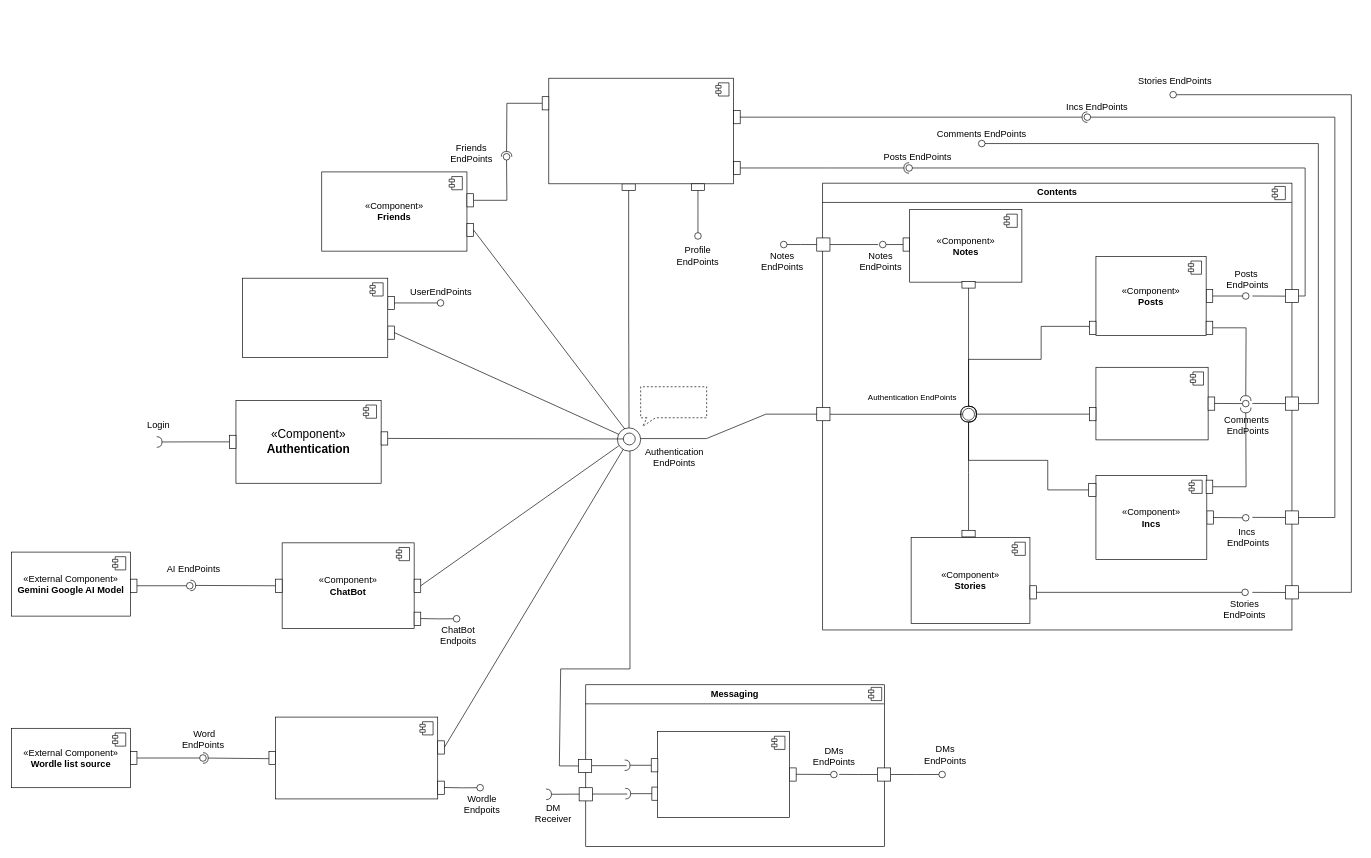
Some shapes in this 1371 by 858 pixel diagram are drawn without their labels. Each missing label, with the centre of its shape:
"Authenticated User" belongs at point 673,406.
"«Component» Comments" belongs at point 1151,403.
"«Component» DMs" belongs at point 723,774.
"«Component» Profile" belongs at point 641,131.
"«Component» Users" belongs at point 315,317.
"«Component» Wordle" belongs at point 356,757.
